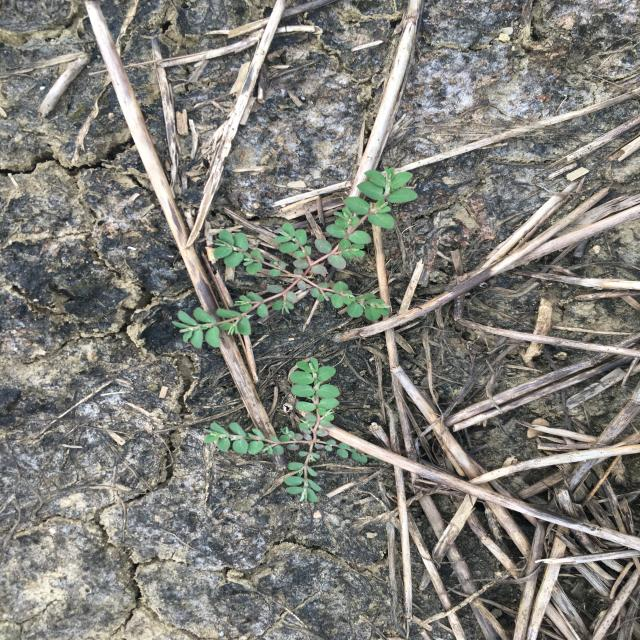SpottedSpurge: (170, 164, 422, 350), (200, 357, 369, 505)
